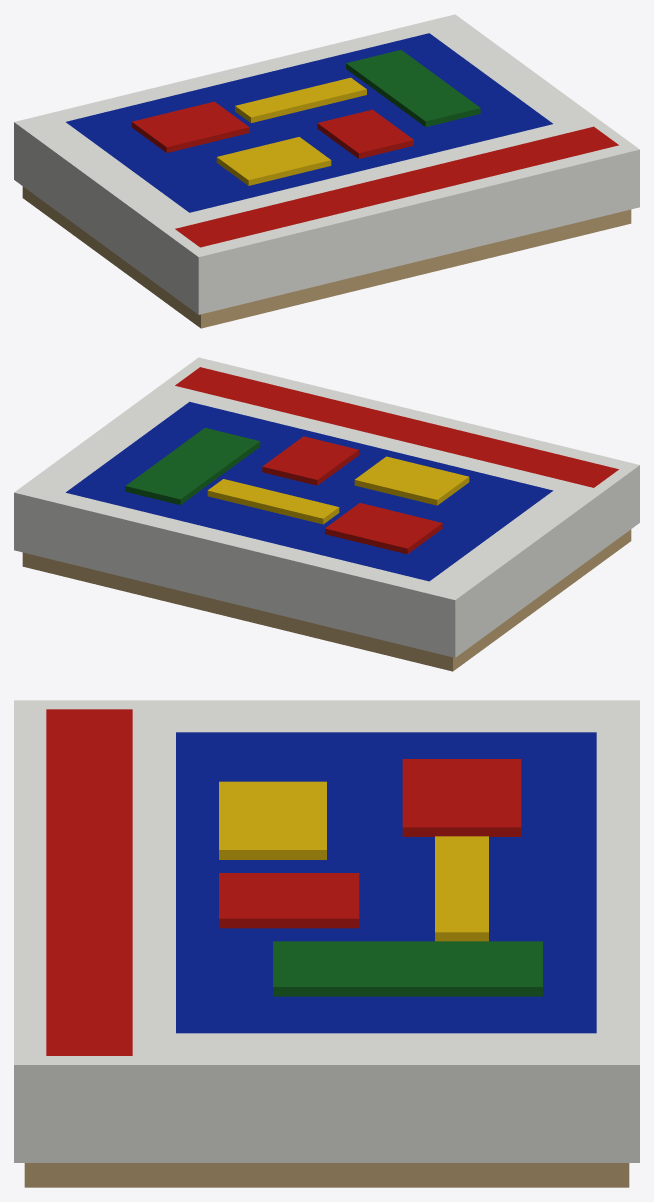
File: maker_kit_box.glb
3 views of the same model, one above another, from view 1: azimuth 30°, elevation 25°; view 2: azimuth 150°, elevation 25°; view 3: azimuth 270°, elevation 25° (orthographic). The views are drawn at different scales.
Visible parts, largest first — view 1: maker_kit_box:compound; view 2: maker_kit_box:compound; view 3: maker_kit_box:compound.
Boxes of the visible parts, x1,y1,x2,y2 form: maker_kit_box:compound: [14, 14, 639, 328]; maker_kit_box:compound: [14, 357, 639, 671]; maker_kit_box:compound: [14, 700, 639, 1187].
Size of the model in its own units: 0.32 by 0.056 by 0.232.
